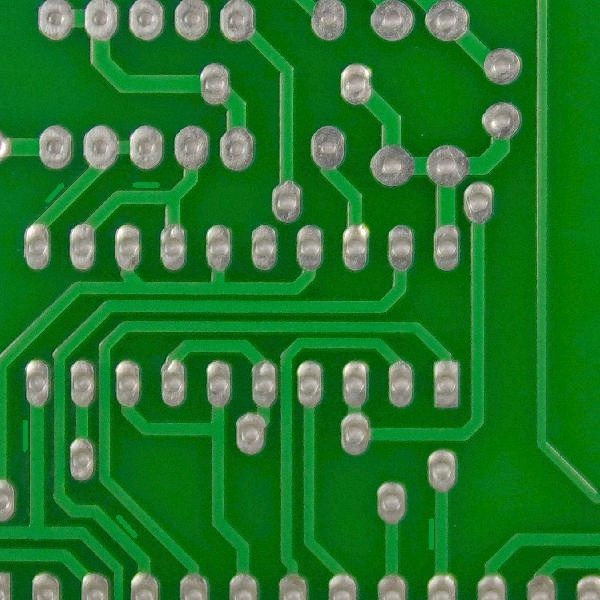spurious_copper: (110, 510, 142, 548), (422, 516, 441, 556), (37, 180, 68, 203), (17, 416, 34, 455), (130, 176, 162, 195)
